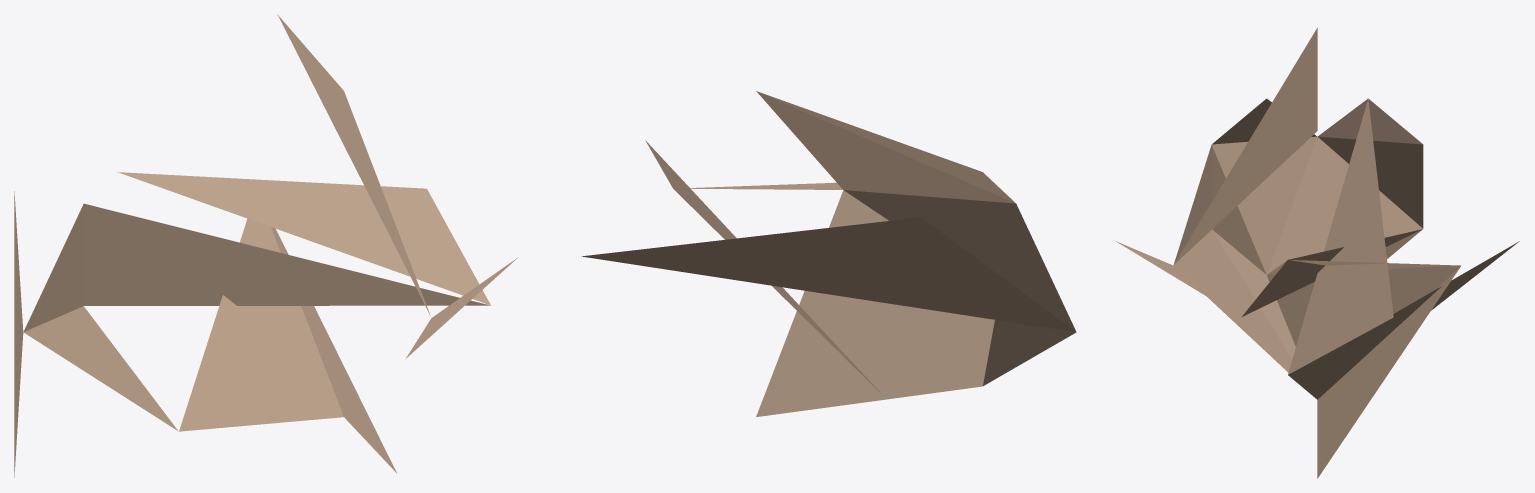
File: cabrilla.glb
3 views of the same model, side by side, from view 1: azimuth 30°, elevation 25°; view 2: azimuth 150°, elevation 25°; view 3: azimuth 270°, elevation 25° (orthographic). The views are drawn at different scales.
Visible parts, largest first — view 1: cabrilla; view 2: cabrilla; view 3: cabrilla.
Part boxes in pixels (x1,y1,x2,y2): cabrilla: (14, 14, 518, 477); cabrilla: (581, 91, 1076, 416); cabrilla: (1116, 27, 1519, 478).
Size of the model in its own units: 1.17 by 1.05 by 0.96.
